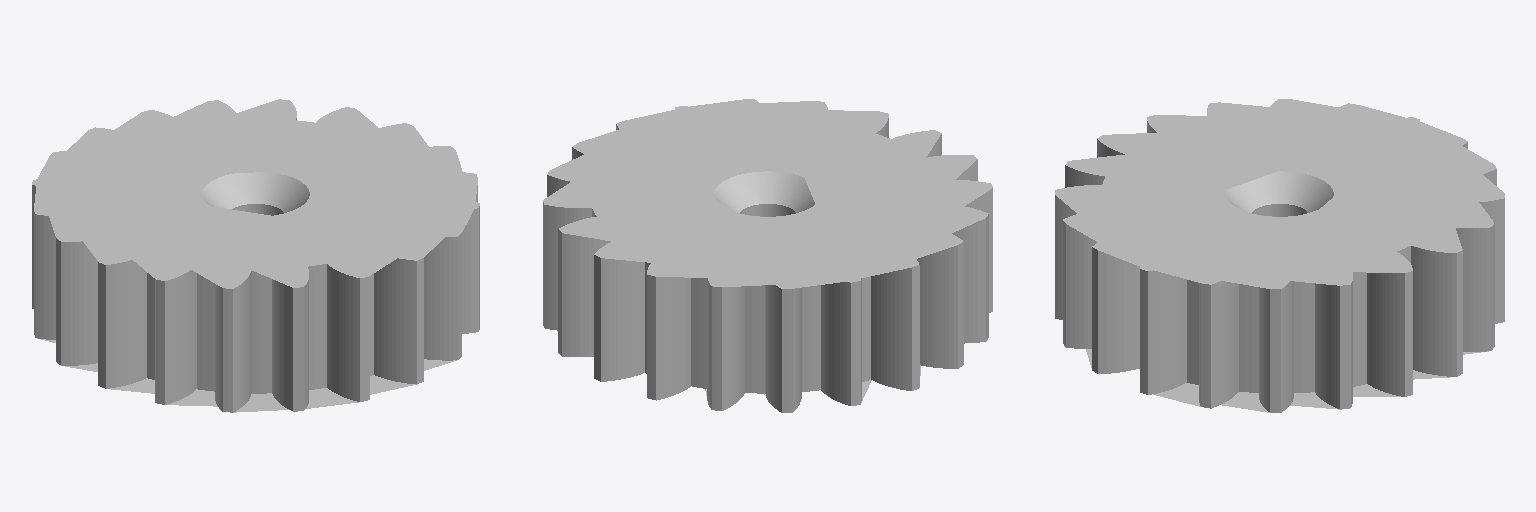
Rendered from Prints_gear.obj.
3 views of the same model, side by side, from view 1: azimuth 30°, elevation 25°; view 2: azimuth 150°, elevation 25°; view 3: azimuth 270°, elevation 25° (orthographic).
Visible parts, largest first — view 1: gear; view 2: gear; view 3: gear.
Boxes of the visible parts, <box> form: gear: <box>32,99,479,412</box>; gear: <box>543,99,992,412</box>; gear: <box>1055,99,1504,412</box>.
Size of the model in its own units: 0.0185 by 0.0056 by 0.0185.